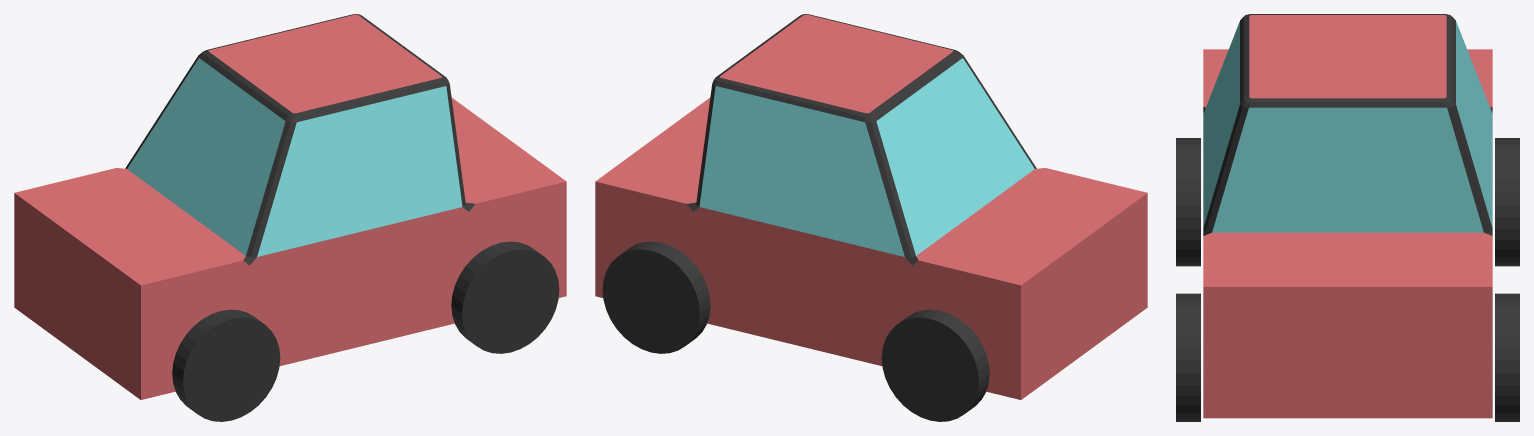
Rendered from araba.fbx.
The picture shows the model from 3 angles, left to right: view 1: azimuth 30°, elevation 25°; view 2: azimuth 150°, elevation 25°; view 3: azimuth 270°, elevation 25°; orthographic projection. The views are drawn at different scales.
Parts seen in each view (by area): view 1: Cube; view 2: Cube; view 3: Cube.
Part boxes in pixels (x1,y1,x2,y2): Cube: (14, 14, 566, 421); Cube: (595, 14, 1147, 421); Cube: (1176, 14, 1519, 421).
Size of the model in its own units: 389 by 227 by 237.
